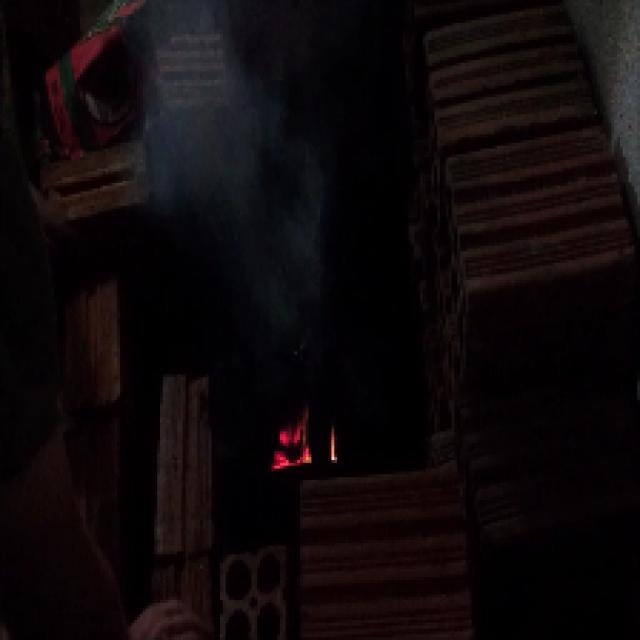smoke: (162, 93, 295, 255)
